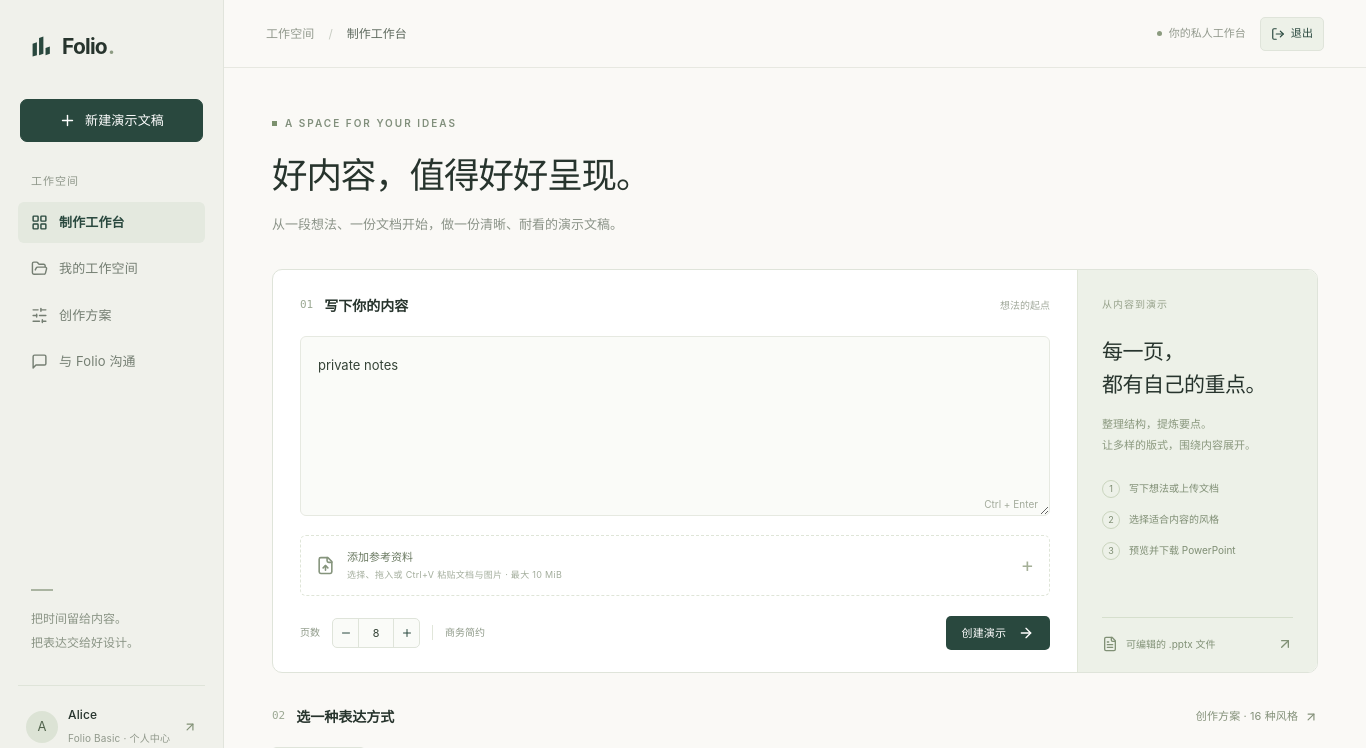
Test: public site and server login › logout clears project commands and draft identity
The width and height of the screenshot is (1366, 748).
Expected: the text box named "演示内容或制作要求" is shown, [300,336,1050,516]
Step 1. Click the button with aria-label "退出登录" → click(1292, 34), box [1260,16,1324,50]
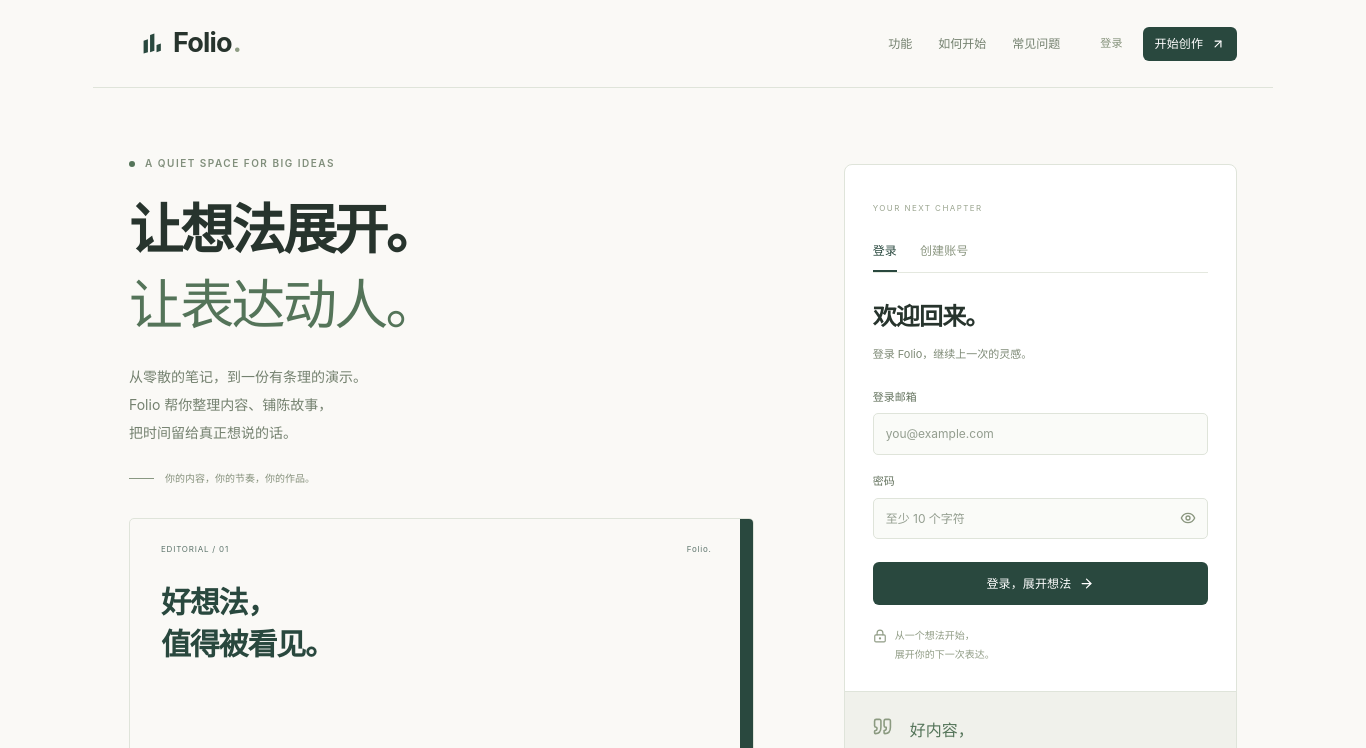
Expected: the field labelled "登录邮箱" is shown, [873,413,1208,455]
